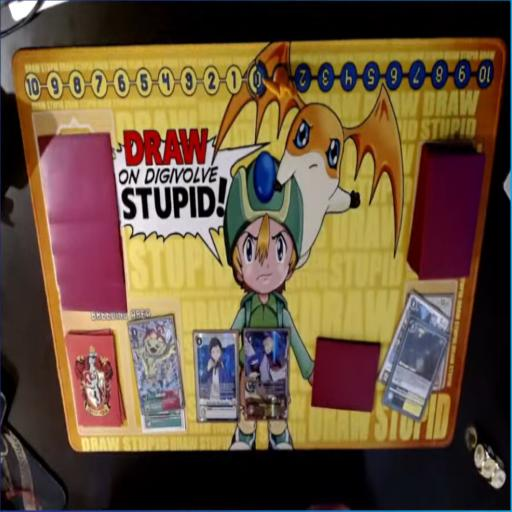card: (378, 297, 450, 382), (386, 322, 448, 420), (130, 311, 186, 416), (242, 327, 290, 422), (194, 332, 241, 424), (141, 402, 188, 435)
